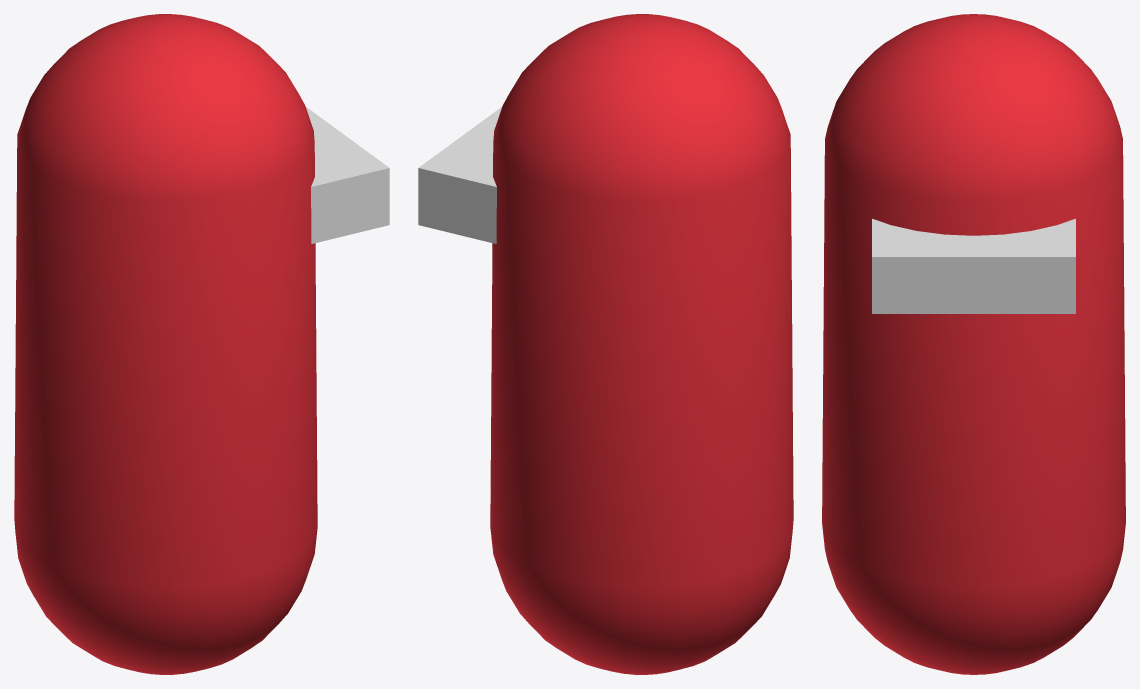
File: redmogus.fbx
The picture shows the model from 3 angles, left to right: view 1: azimuth 30°, elevation 25°; view 2: azimuth 150°, elevation 25°; view 3: azimuth 270°, elevation 25°; orthographic projection.
Parts seen in each view (by area): view 1: Sphere, Cube; view 2: Sphere, Cube; view 3: Sphere, Cube.
Part boxes in pixels (box(x1,y1,x2,y2)): Sphere: box(14, 14, 317, 674); Cube: box(306, 107, 389, 243); Sphere: box(490, 14, 793, 674); Cube: box(418, 107, 501, 243); Sphere: box(822, 14, 1125, 674); Cube: box(872, 218, 1075, 313).
Size of the model in its own units: 162 by 322 by 140.
